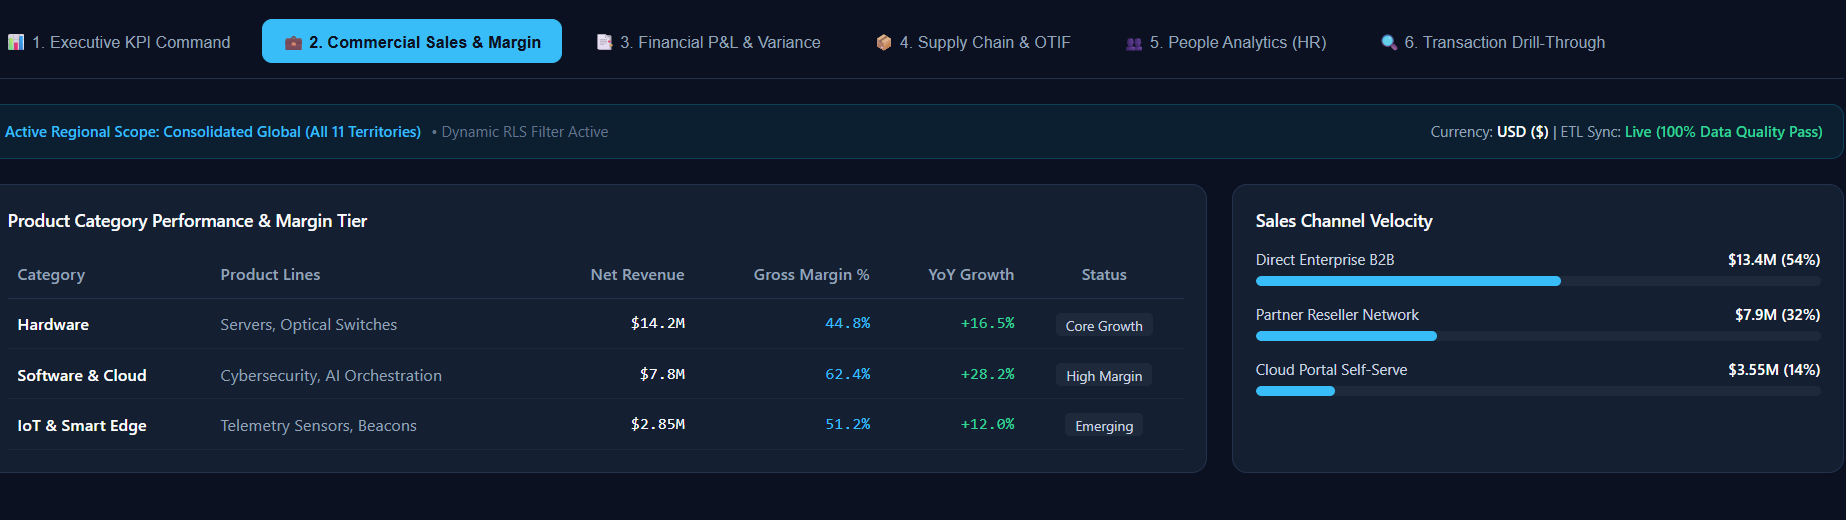

The page's visual inventory and layout, read from the dashboard file:
{"tool":"powerbi","page":{"name":"Commercial Sales & Margin","canvas":[1920,1080],"ordinal":1},"visuals":[{"type":"textbox","box":[10,0,626,80],"z":0},{"type":"pageNavigator","box":[10,104,1888,94],"z":1},{"type":"cardVisual","fields":{"Data":["Fact_Sales.Active Scope"]},"box":[10,238,1888,160],"z":2},{"type":"textbox","box":[896,302,1002,54],"z":3},{"type":"tableEx","fields":{"Values":["Dim_Product.ProductCategory","Fact_Sales.Product Lines","Fact_Sales.Net Revenue","Fact_Sales.Gross Margin %","Fact_Sales.Revenue YoY %","Fact_Sales.Margin Status"]},"box":[10,420,1888,330],"z":4},{"type":"clusteredBarChart","title":"Sales Channel Velocity","fields":{"Category":["Fact_Sales.SalesChannel"],"Y":["Fact_Sales.Net Revenue"]},"box":[10,768,1888,290],"z":5}]}

Visuals, with their boxes on the page's 1920x1080 design canvas (x1, y1, x2, y2). These are canvas units, not pixel positions in the 1846x520 screenshot, which may show the page scaled, cropped or inside an application window:
textbox: 10, 0, 636, 80
pageNavigator: 10, 104, 1898, 198
cardVisual - Fact_Sales.Active Scope: 10, 238, 1898, 398
textbox: 896, 302, 1898, 356
tableEx - Dim_Product.ProductCategory x Fact_Sales.Product Lines: 10, 420, 1898, 750
"Sales Channel Velocity" clusteredBarChart: 10, 768, 1898, 1058
